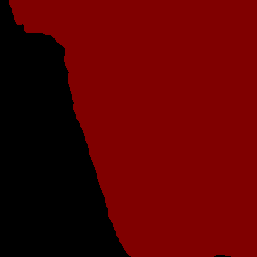Sky: (1, 1, 256, 256)
